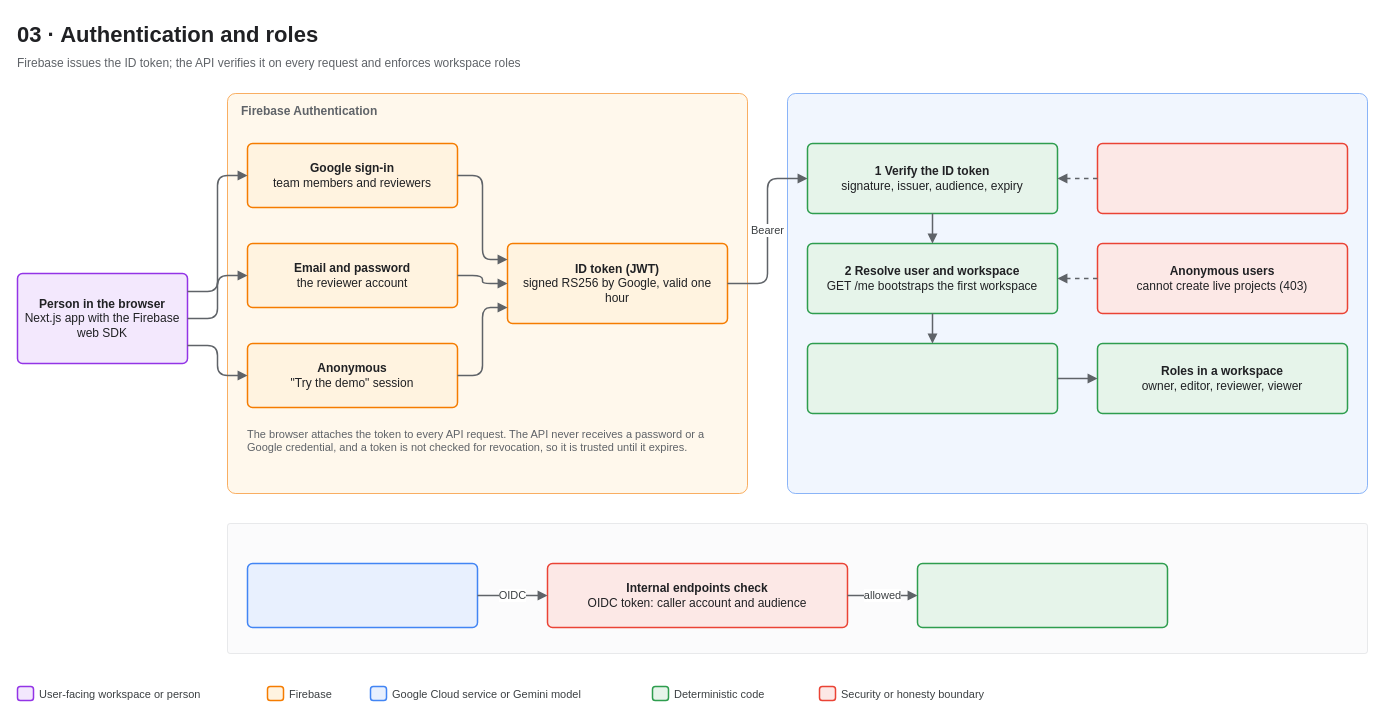
The diagram is 1386 pixels wide and 720 high, and some of its shapes have lost their labels. Here are the shapes that lost their labels. From the top down, the box of each, then its label:
(1096, 142, 1348, 214): Development token mode refused when APP_ENV=production
(786, 92, 1368, 494): omnicult-api
(806, 342, 1058, 414): 3 Check membership and role non-member 404, too little role 403
(246, 562, 478, 628): Cloud Scheduler service account omnicult-scheduler
(226, 522, 1368, 654): Callers without a user session
(916, 562, 1168, 628): Jobs run alert rules and the weekly digest
